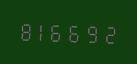eight: (17, 18, 33, 42)
nine: (86, 20, 102, 45)
one: (34, 18, 50, 43)
six: (52, 19, 68, 43), (69, 20, 85, 44)
two: (103, 21, 119, 45)
